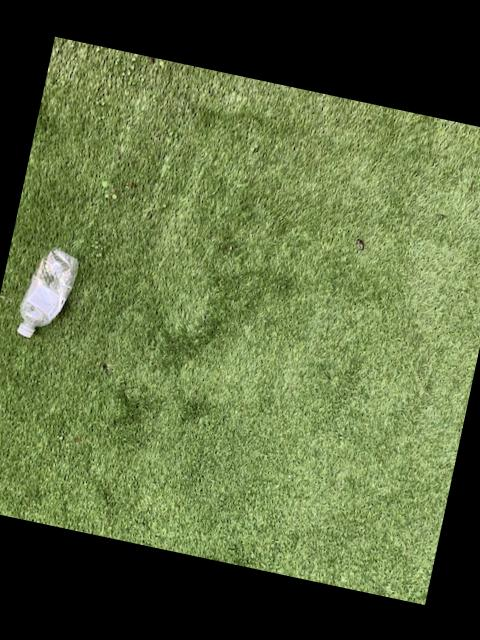plastic: (16, 248, 76, 337)
